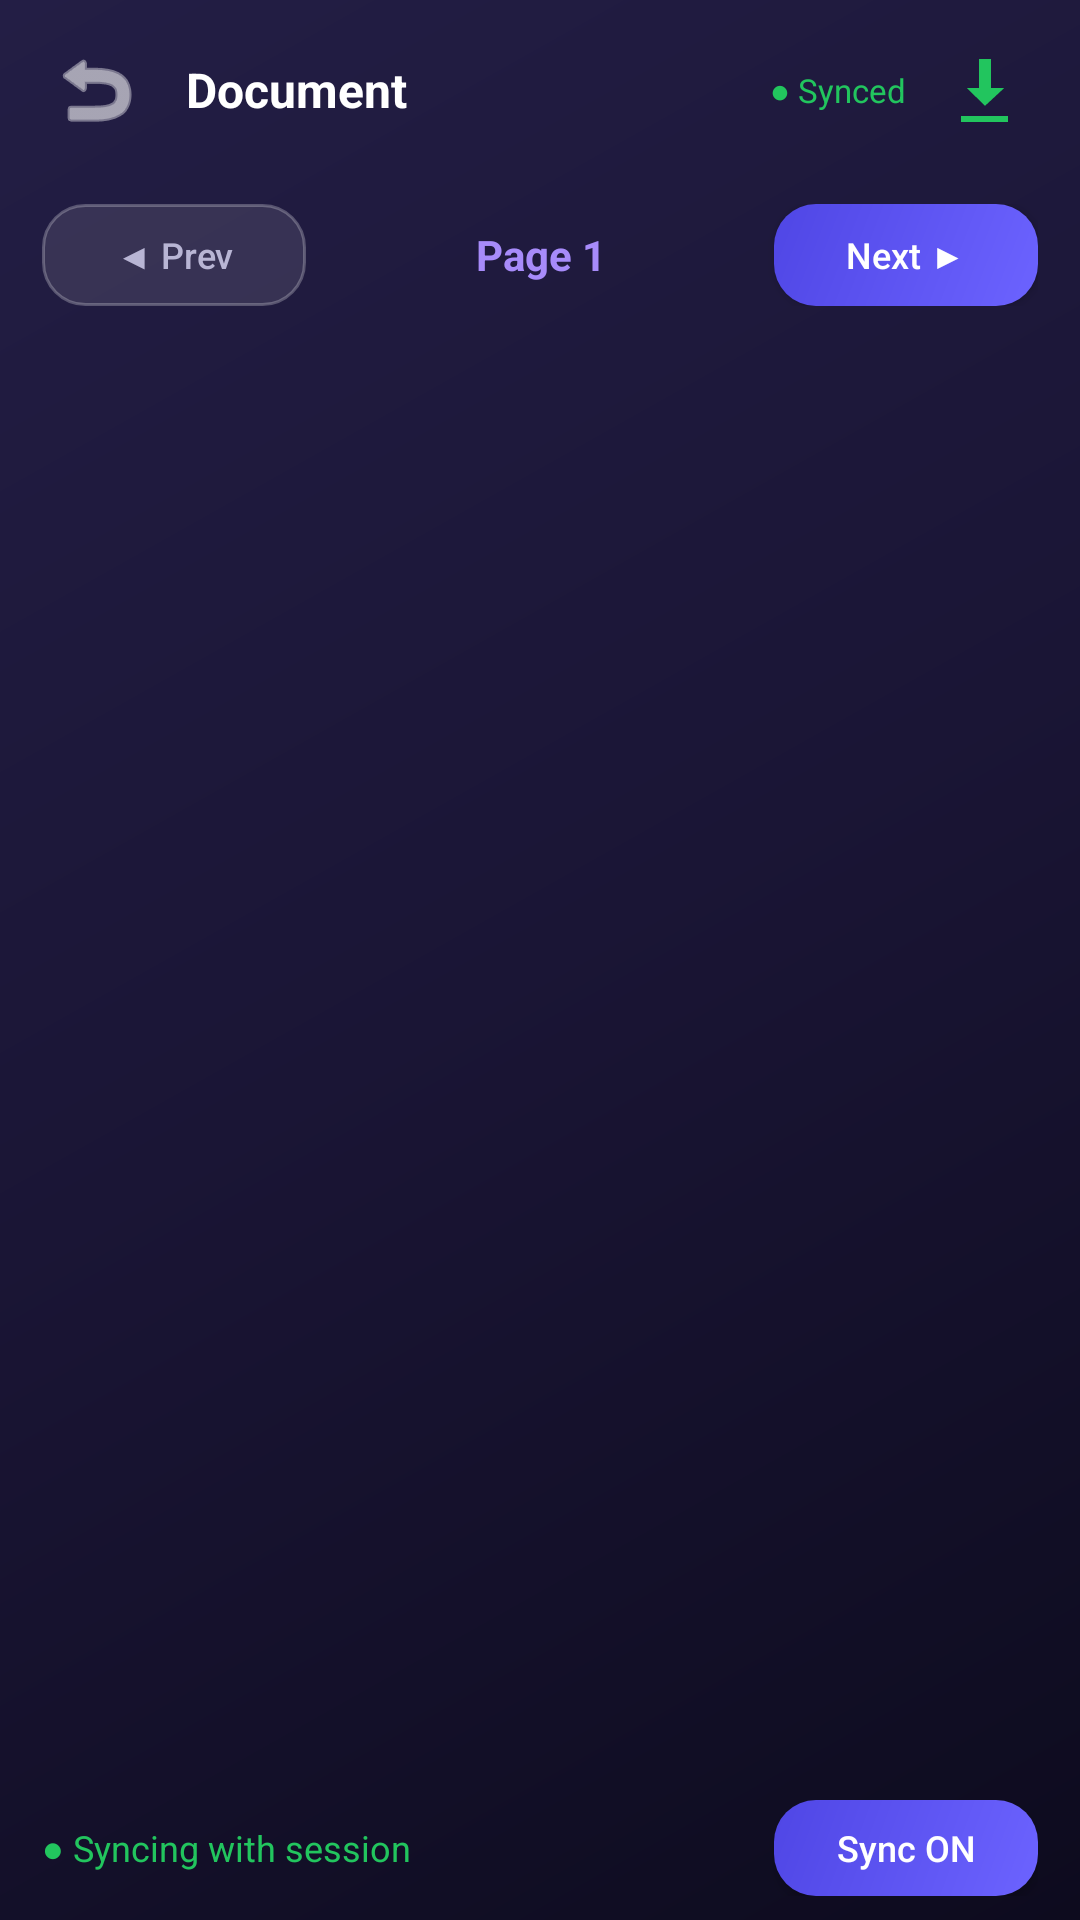

Named icons in this screenshot (1080px×1920px) and their bounding boxes, bbox=[x1, y1, x2, y2]:
Back: bbox=[63, 59, 132, 122]
Download: bbox=[961, 59, 1008, 122]
